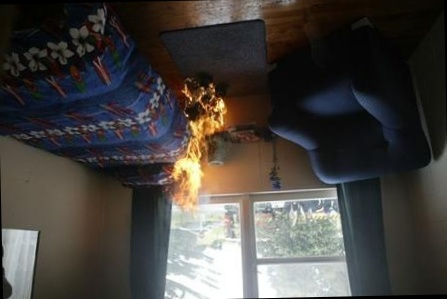fire: (155, 73, 237, 225)
